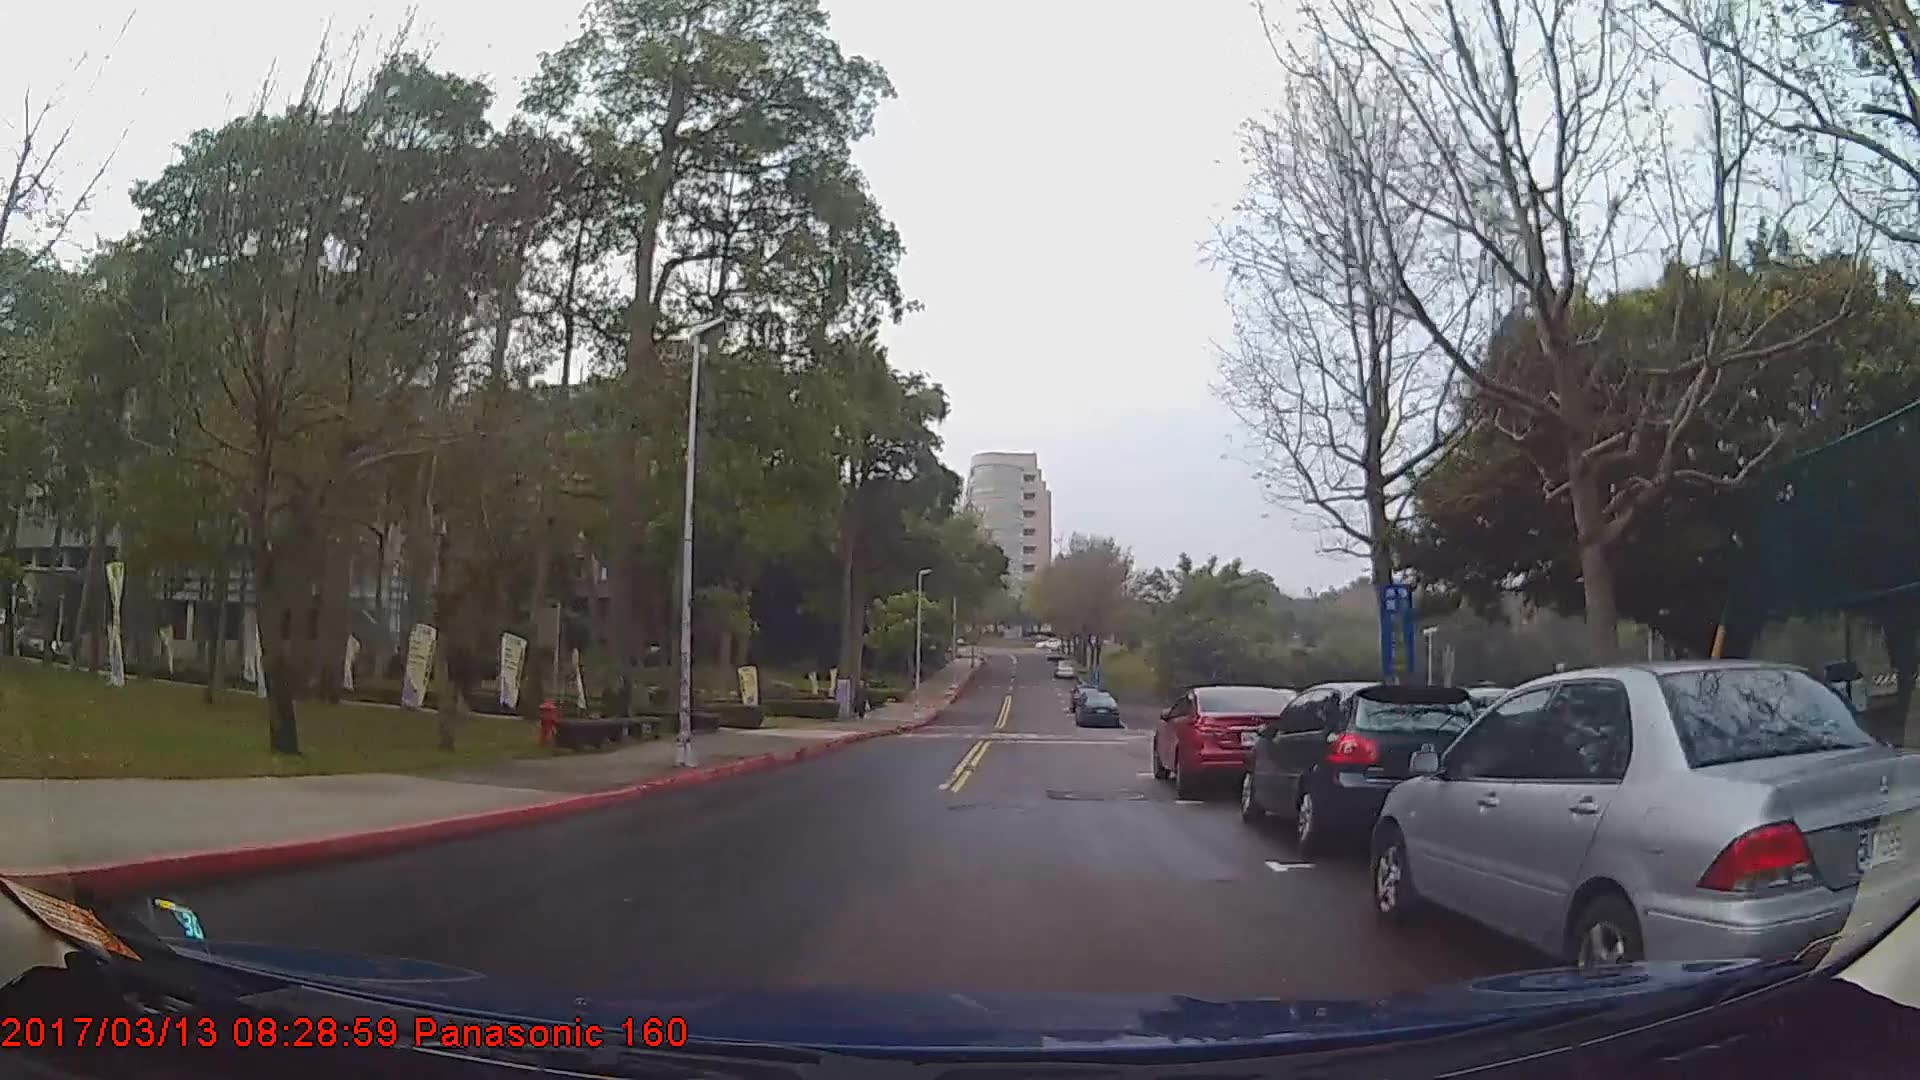vehicle: (1373, 657, 1920, 1011), (1240, 676, 1491, 843), (1151, 679, 1307, 796), (1075, 687, 1122, 725)
